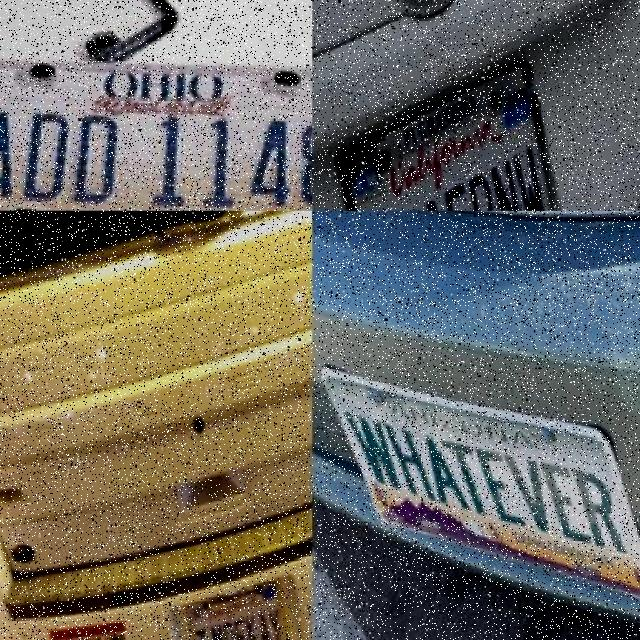licenseplate: (321, 368, 640, 593), (0, 24, 312, 210), (341, 56, 566, 211), (190, 578, 298, 640)
